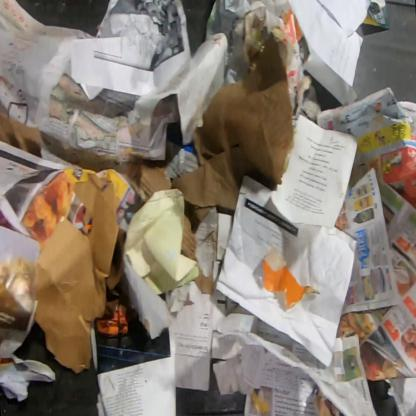cardboard: (22, 168, 130, 284), (32, 218, 107, 376), (0, 109, 43, 158), (96, 291, 137, 338)
